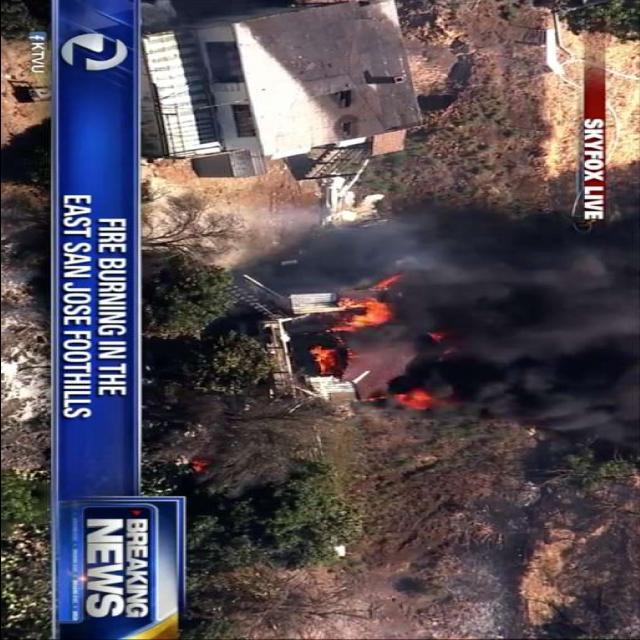Fire: (248, 264, 470, 434)
